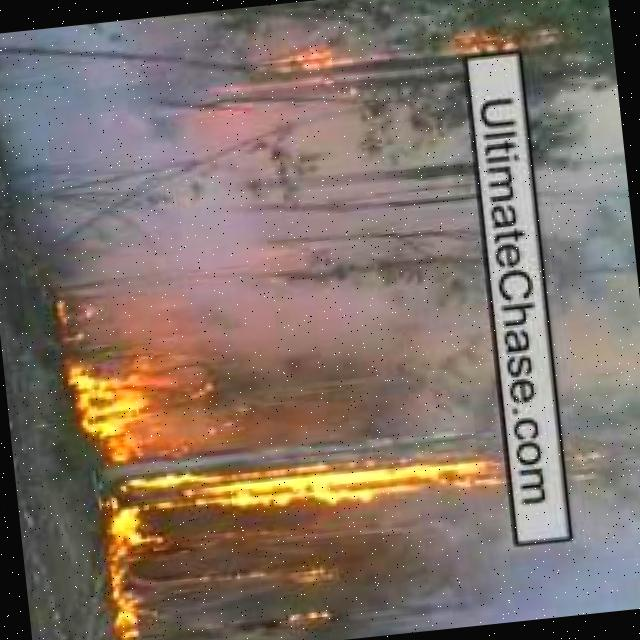fire: (81, 361, 182, 640), (168, 444, 515, 522), (441, 7, 556, 69), (200, 560, 336, 599), (274, 29, 366, 80), (284, 600, 334, 628)
